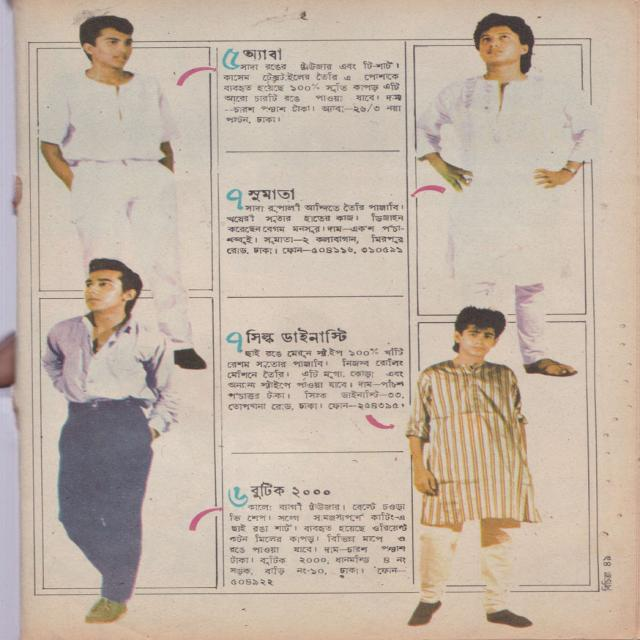image: (418, 13, 603, 376), (41, 16, 207, 370), (43, 259, 178, 622), (406, 306, 540, 629)
page number: (603, 555, 612, 567)
paragraph: (224, 501, 411, 587), (224, 344, 406, 411), (223, 60, 404, 124), (226, 202, 406, 256)
text: (601, 571, 612, 591)
title: (225, 327, 349, 354), (226, 480, 332, 509), (221, 46, 285, 72), (224, 188, 295, 210)
